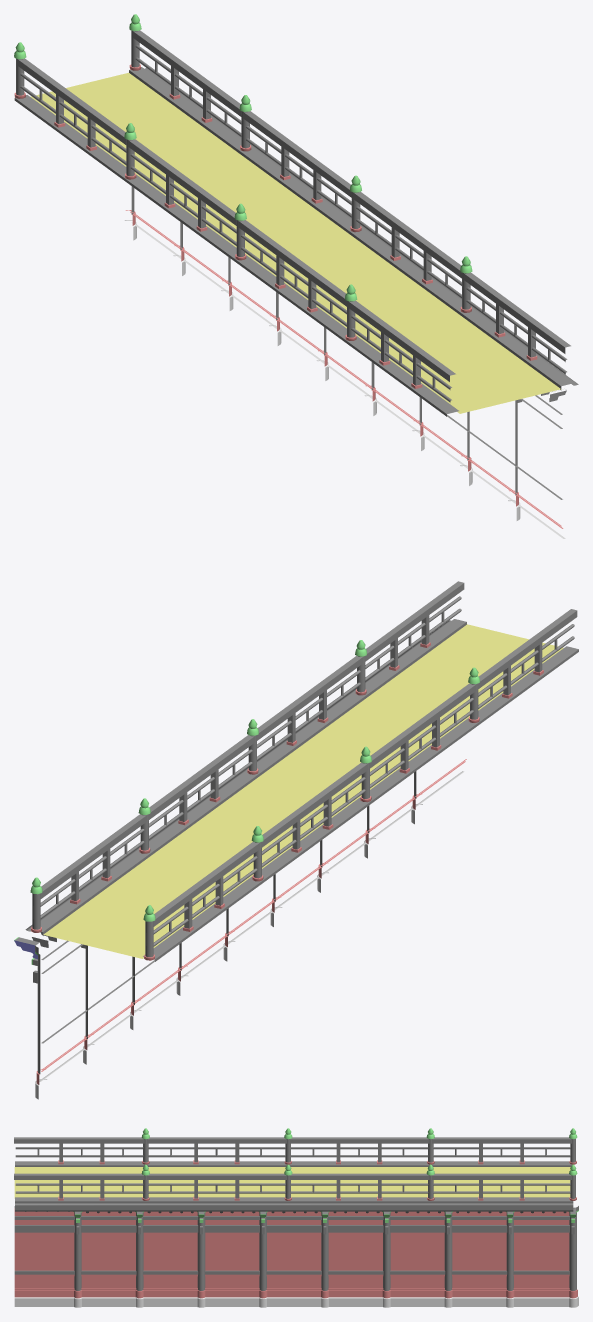
File: SM_ENV_KNVLLG03_Bridge_StraightA.gltf
The picture shows the model from 3 angles, top to bottom: view 1: azimuth 30°, elevation 25°; view 2: azimuth 150°, elevation 25°; view 3: azimuth 270°, elevation 25°; orthographic projection. The views are drawn at different scales.
Parts seen in each view (by area): view 1: SM_ENV_KNVLLG03_Bridge_StraightA; view 2: SM_ENV_KNVLLG03_Bridge_StraightA; view 3: SM_ENV_KNVLLG03_Bridge_StraightA.
Part boxes in pixels (x1,y1,x2,y2): SM_ENV_KNVLLG03_Bridge_StraightA: [14, 14, 578, 538]; SM_ENV_KNVLLG03_Bridge_StraightA: [14, 581, 578, 1099]; SM_ENV_KNVLLG03_Bridge_StraightA: [14, 1128, 578, 1307].
Bounding box in the file's own units: 5.59 × 8.33 × 29.87.
